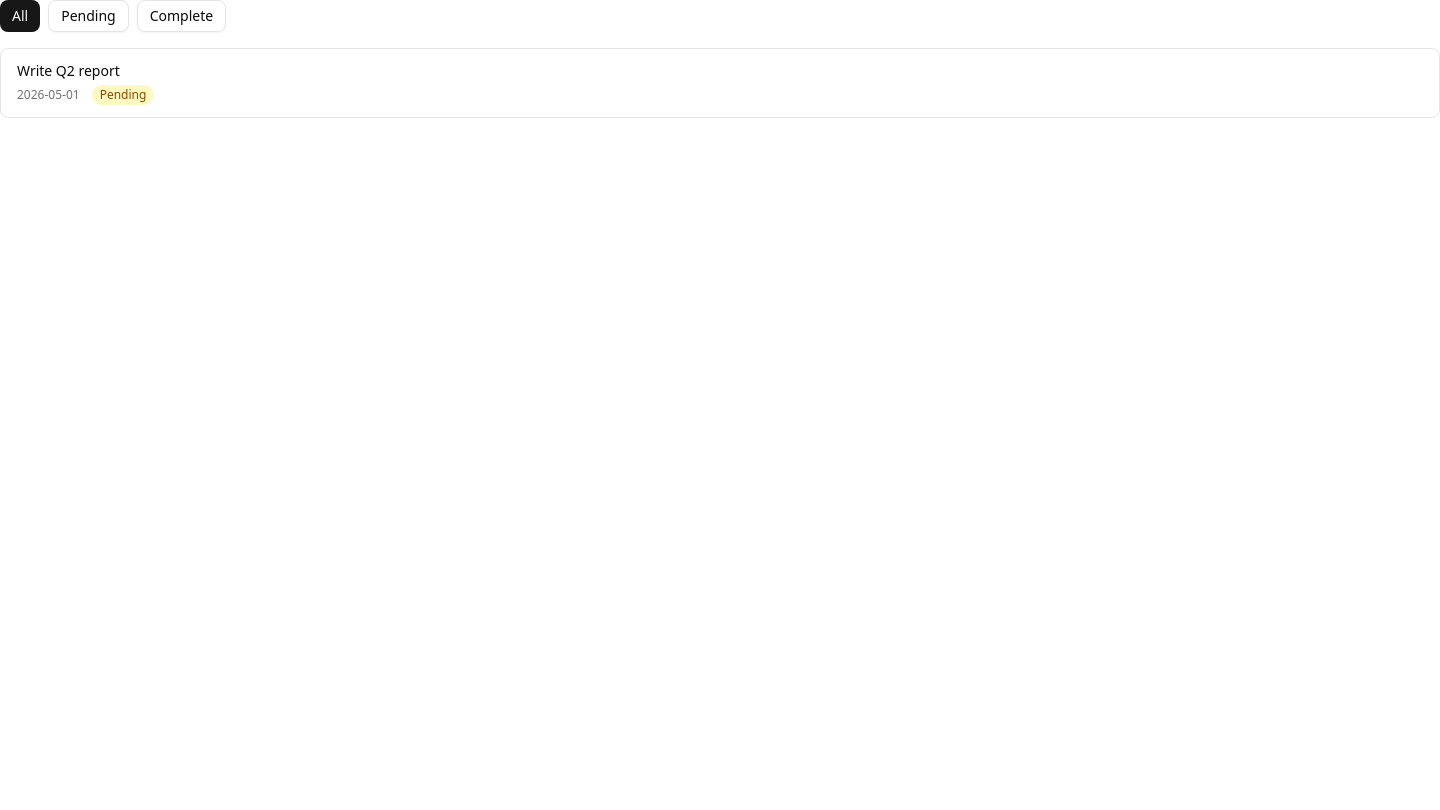
it: AC-2 & AC-16: Team-member does not see Edit or Delete controls › AC-2: team-member sees no Edit button in the task detail modal
What coordinates should you click on to do the following:
click the text "Write Q2 report"
I would click on:
 (68, 70)
Its box is 17,61 -> 120,80.
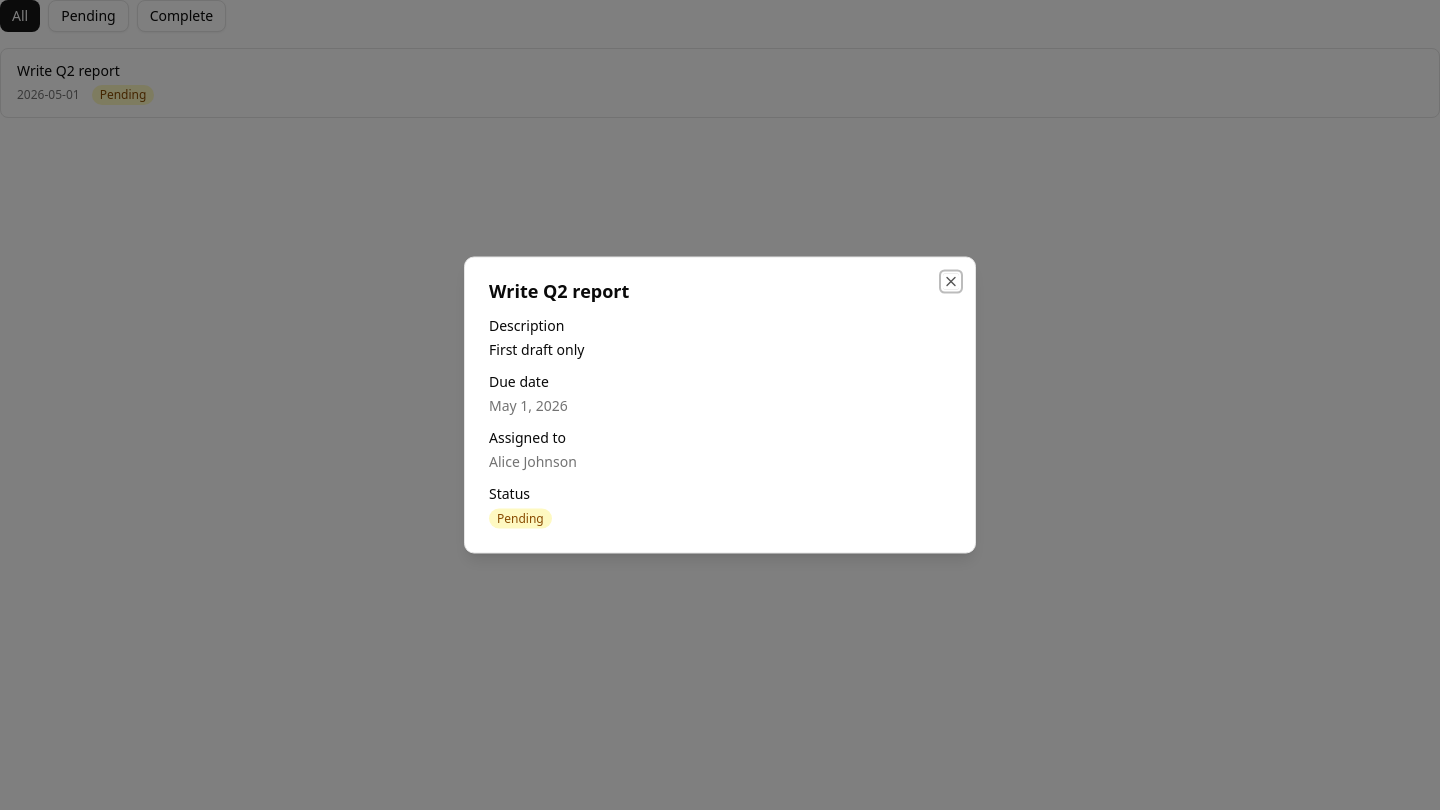
Expected: the dialog is shown, 464,256 -> 976,554
